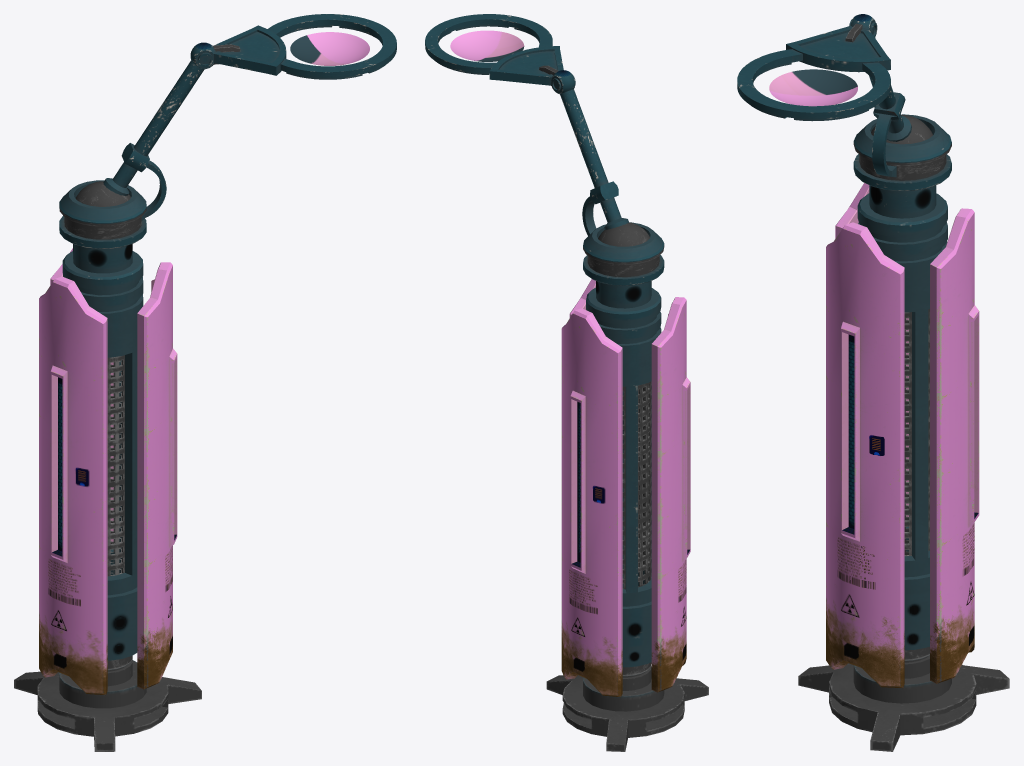
File: sci-fi-searchlight.obj
3 views of the same model, side by side, from view 1: azimuth 30°, elevation 25°; view 2: azimuth 150°, elevation 25°; view 3: azimuth 270°, elevation 25° (orthographic). The views are drawn at different scales.
Visible parts, largest first — view 1: sci_fi_searchlight; view 2: sci_fi_searchlight; view 3: sci_fi_searchlight.
Part boxes in pixels (x1,y1,x2,y2): sci_fi_searchlight: (14, 14, 396, 751); sci_fi_searchlight: (425, 14, 708, 751); sci_fi_searchlight: (737, 14, 1009, 751).
Bounding box in the file's own units: 4.38 × 9.02 × 3.04.
1 material, 1 textured.
